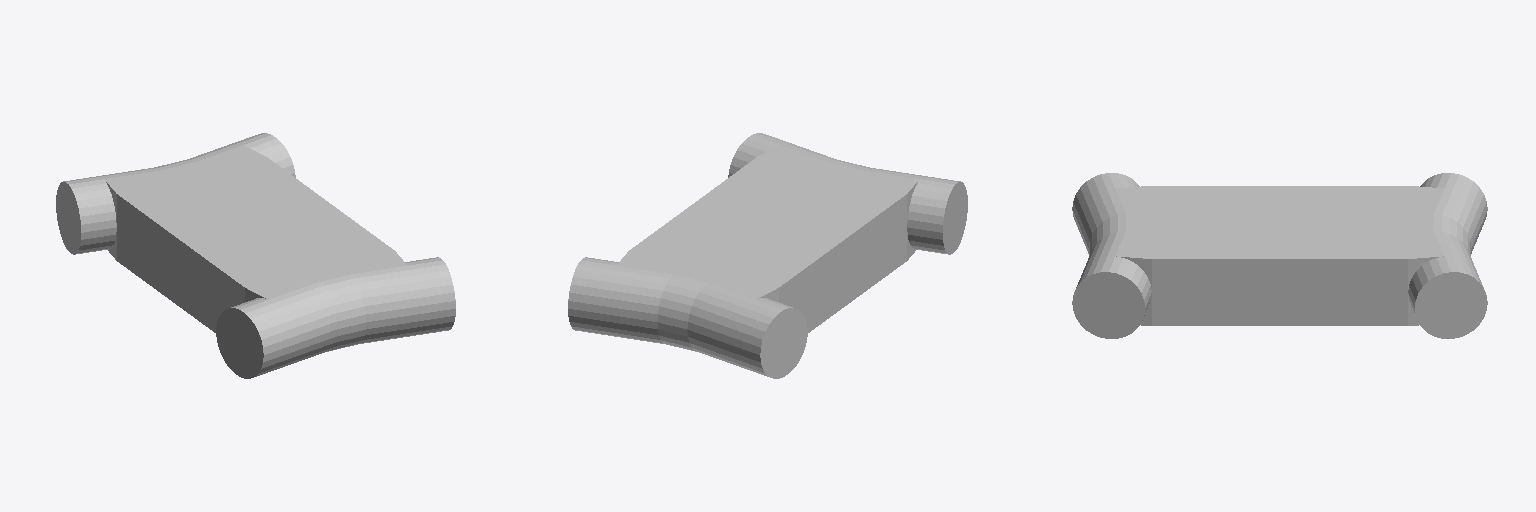
File: soft_body_simplified_10_deg.obj
3 renders of one model, left to right at view 1: azimuth 30°, elevation 25°; view 2: azimuth 150°, elevation 25°; view 3: azimuth 270°, elevation 25°, orthographic.
Parts seen in each view (by area): view 1: Solid1; view 2: Solid1; view 3: Solid1.
Boxes of the visible parts, x1=… form: Solid1: x1=56, y1=133, x2=455, y2=378; Solid1: x1=568, y1=133, x2=967, y2=378; Solid1: x1=1072, y1=173, x2=1487, y2=338.
Bounding box in the file's own units: 214 × 64 × 359.